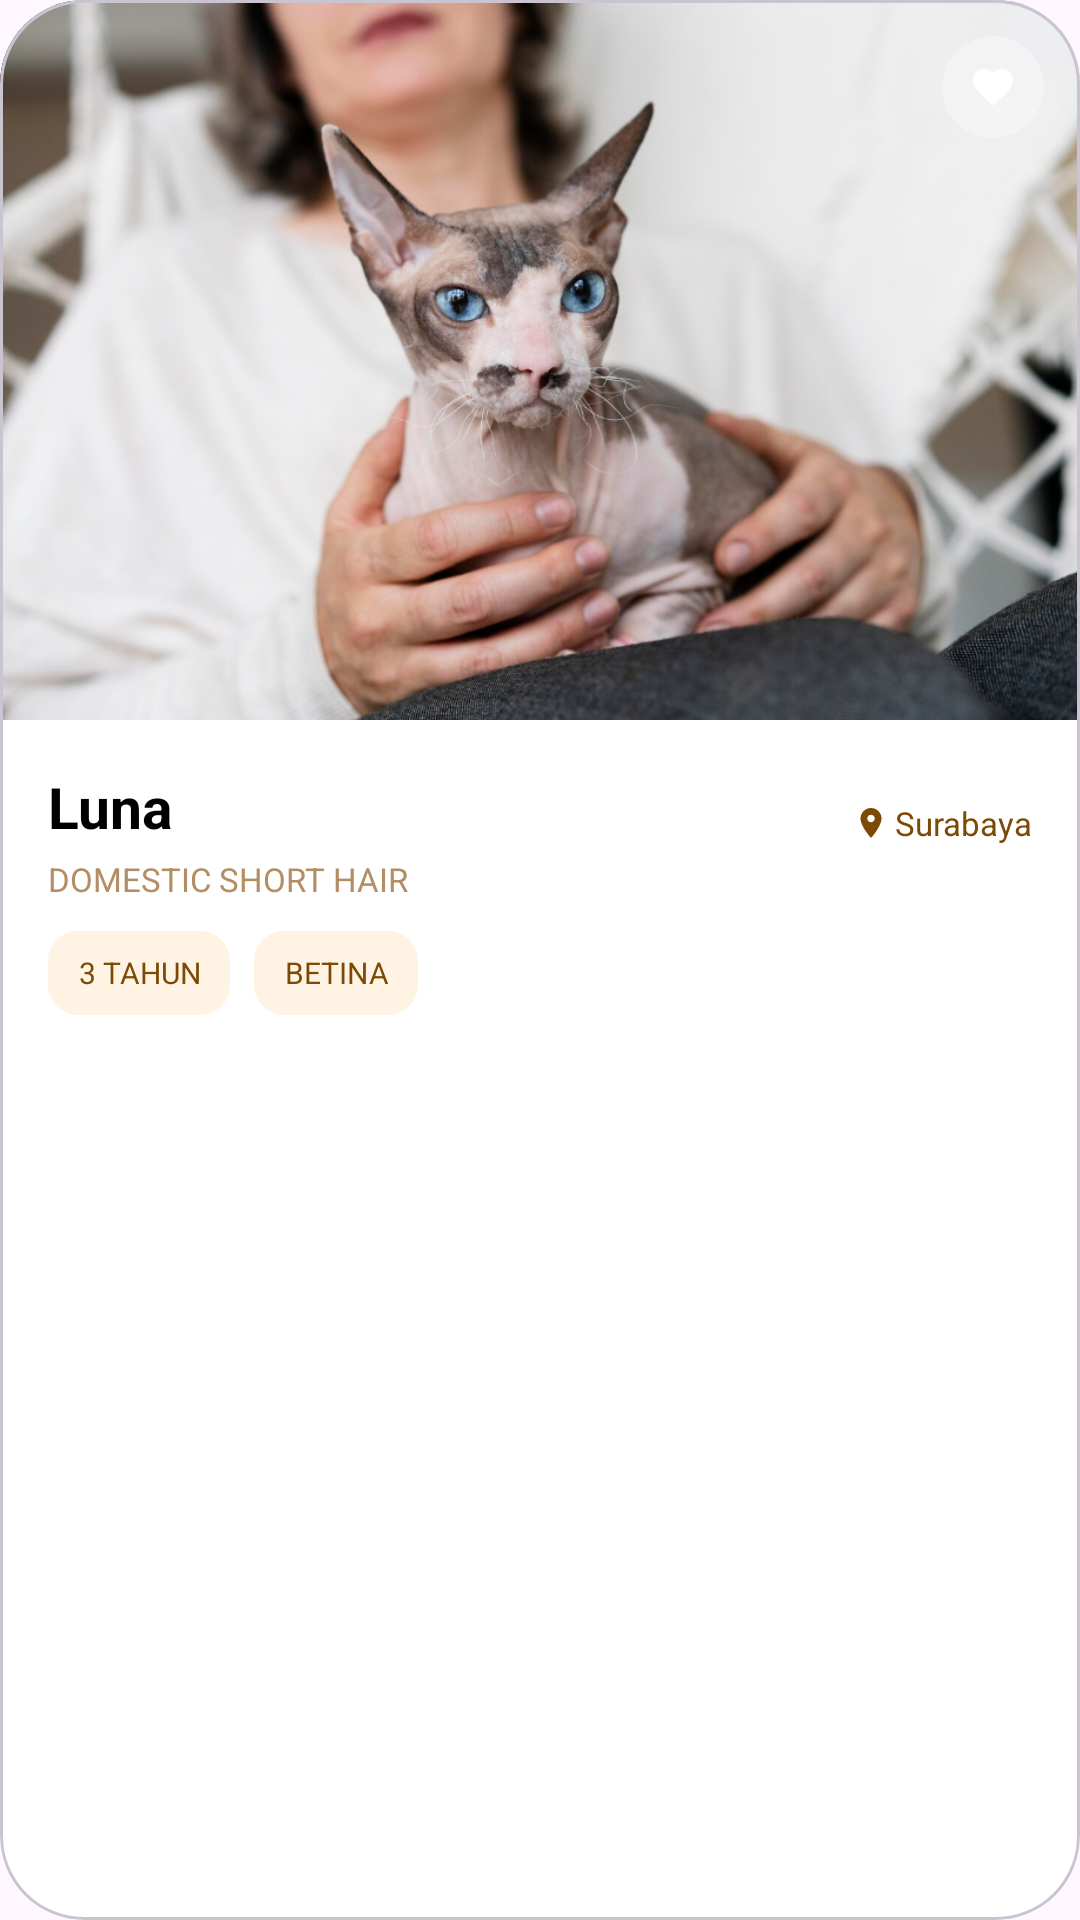

Icons on this 1080 × 1920 Android screen, each with the point to tap as (x=x, y=y):
Lokasi: (x=871, y=823)
